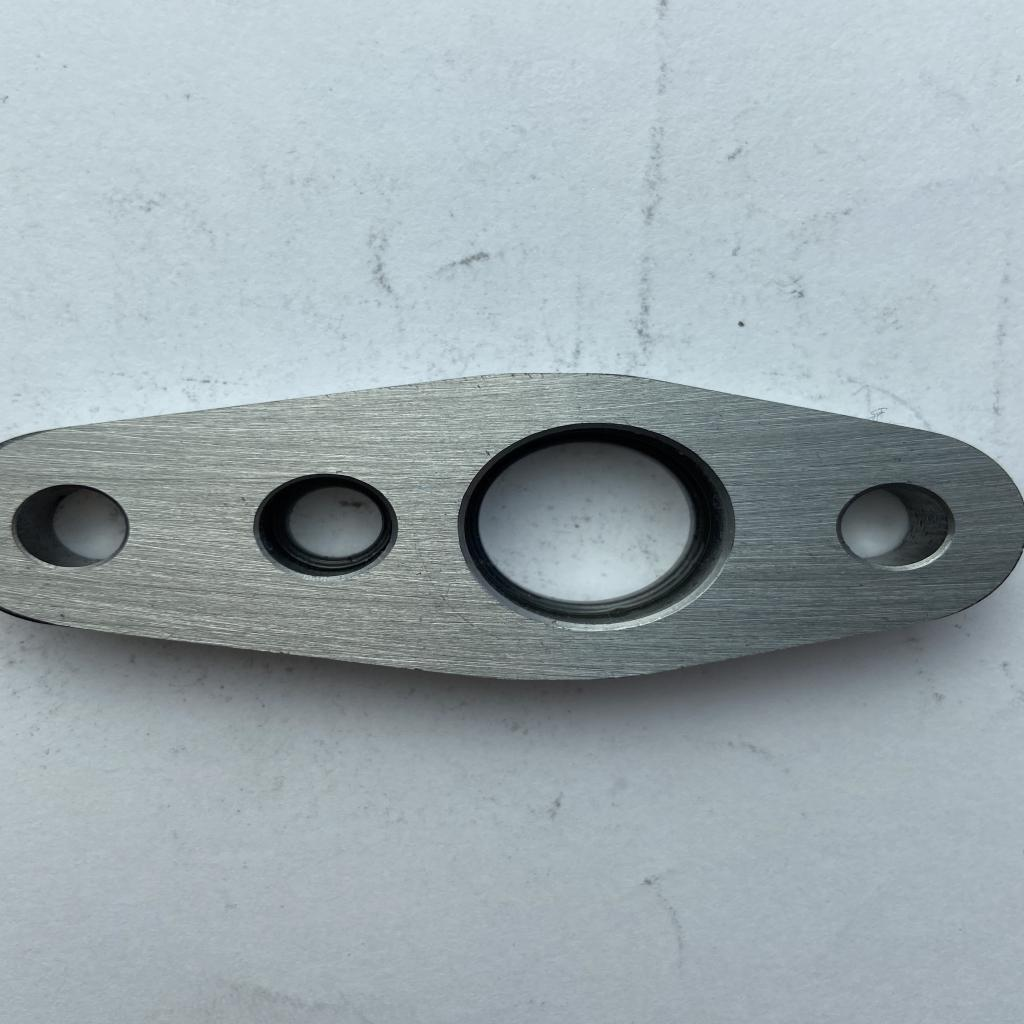chap: (482, 448, 494, 458)
lines: (421, 571, 472, 628)
